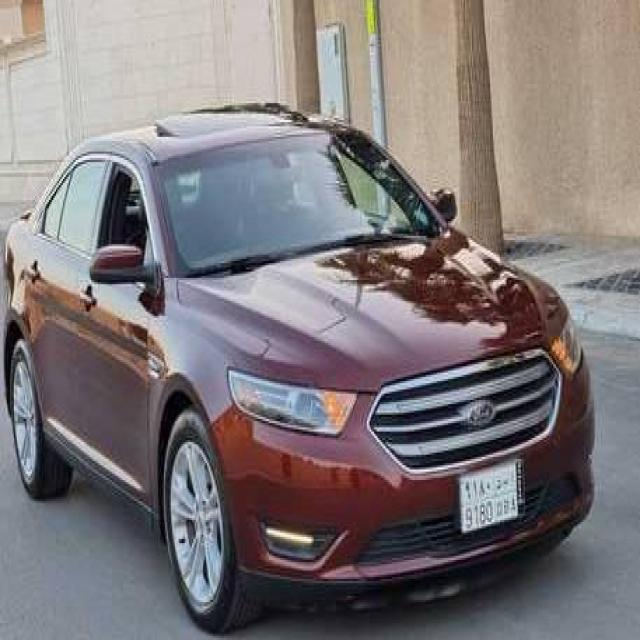license_plate: (448, 446, 527, 546)
